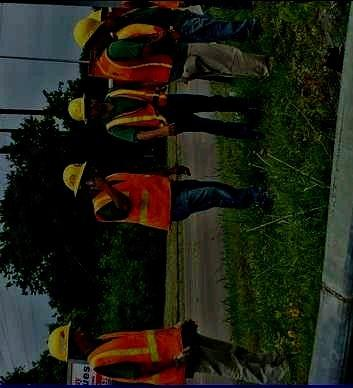helmet: (47, 320, 92, 364), (72, 17, 109, 55), (61, 161, 95, 198), (67, 93, 100, 125), (88, 9, 120, 32)
